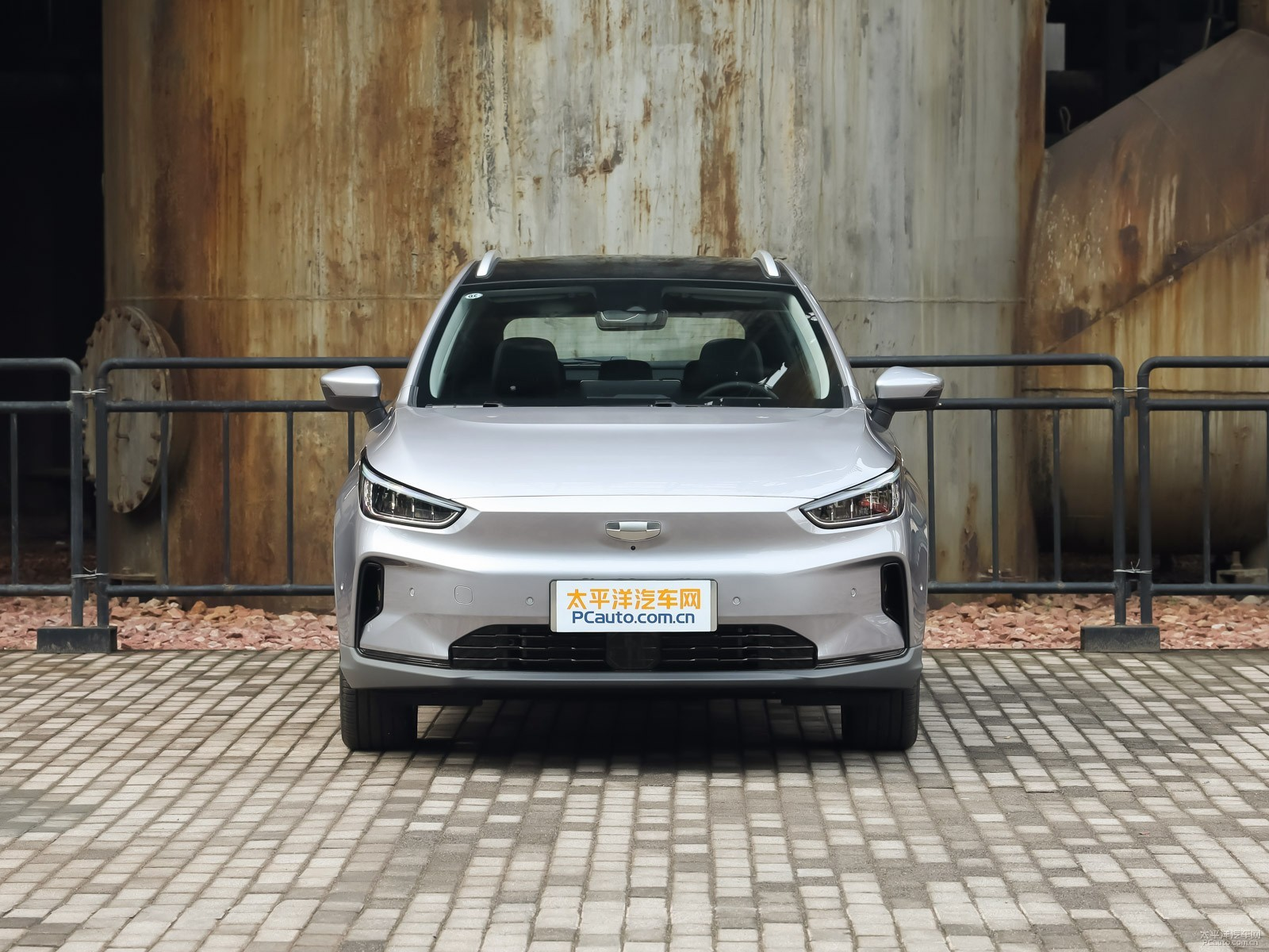GEOMETRY: (606, 522, 661, 540)
